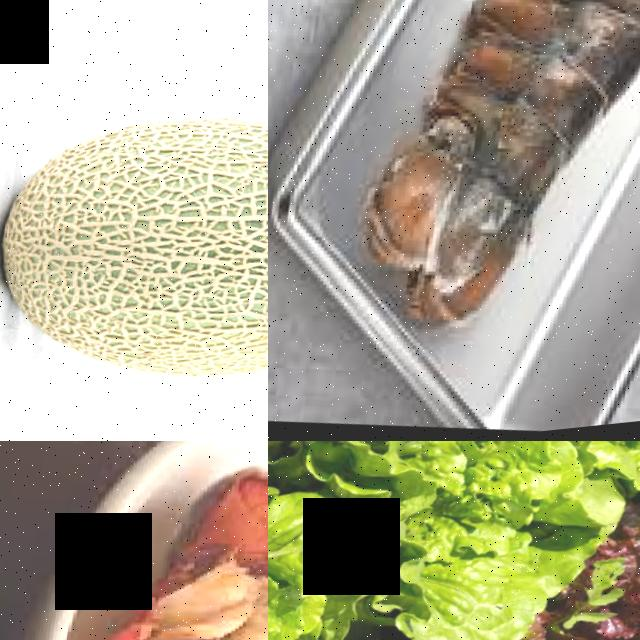lettuce: (321, 441, 590, 640), (268, 485, 349, 640), (512, 441, 640, 526)
lobster tails: (354, 0, 640, 362), (37, 450, 268, 640)
melon: (0, 76, 268, 434)
